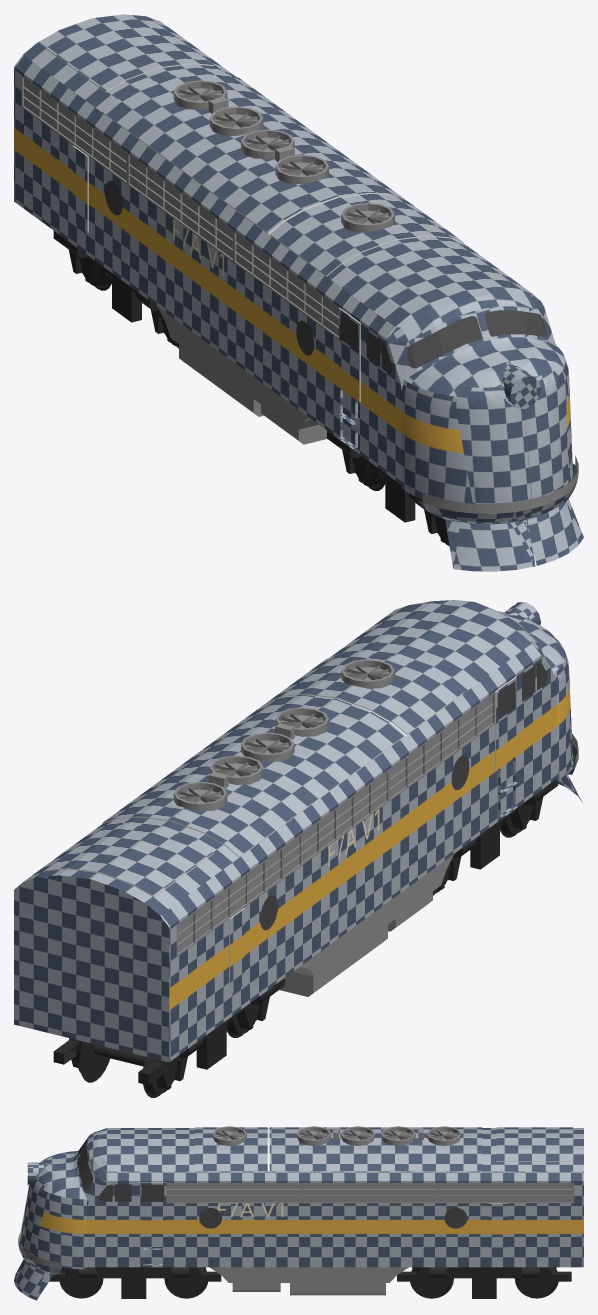
File: f7a-v1-checker.dae
3 views of the same model, one above another, from view 1: azimuth 30°, elevation 25°; view 2: azimuth 150°, elevation 25°; view 3: azimuth 270°, elevation 25° (orthographic). The views are drawn at different scales.
Parts seen in each view (by area): view 1: body_half (×17), side-grid (×3), bogie-mechanism-half (×4); view 2: body_half (×12), side-grid (×3), bogie-mechanism-half (×4), fan (×3), wheel_half; view 3: body_half (×20), side-grid (×6), bogie-mechanism-half (×4), fan (×5), wheel_half (×2).
Part boxes in pixels (x1,y1,x2,y2): body_half (×17): [14, 14, 583, 571]; side-grid (×3): [22, 77, 338, 337]; bogie-mechanism-half (×4): [53, 231, 448, 542]; body_half (×12): [14, 600, 572, 1062]; side-grid (×3): [177, 694, 494, 954]; bogie-mechanism-half (×4): [138, 779, 558, 1089]; fan (×3): [173, 659, 394, 811]; wheel_half: [76, 1041, 108, 1079]; body_half (×20): [14, 1127, 583, 1300]; side-grid (×6): [166, 1182, 574, 1203]; bogie-mechanism-half (×4): [49, 1267, 571, 1298]; fan (×5): [212, 1126, 461, 1145]; wheel_half (×2): [166, 1267, 556, 1296].
Size of the model in its own units: 126 by 586 by 179.
5 materials, 1 textured.
